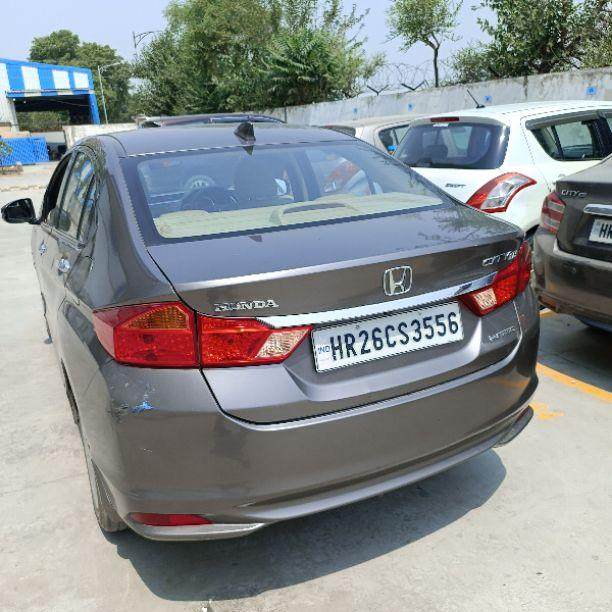license_plate: (309, 300, 465, 373)
